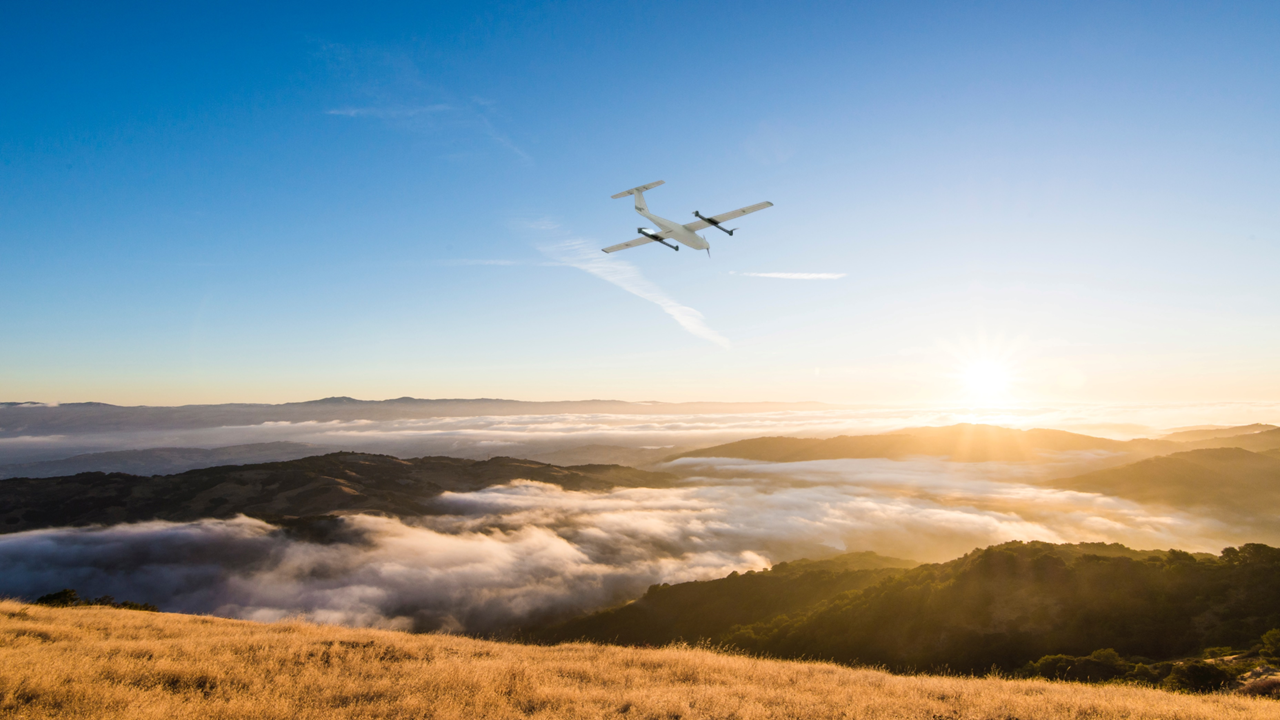military drone: (600, 179, 773, 258)
